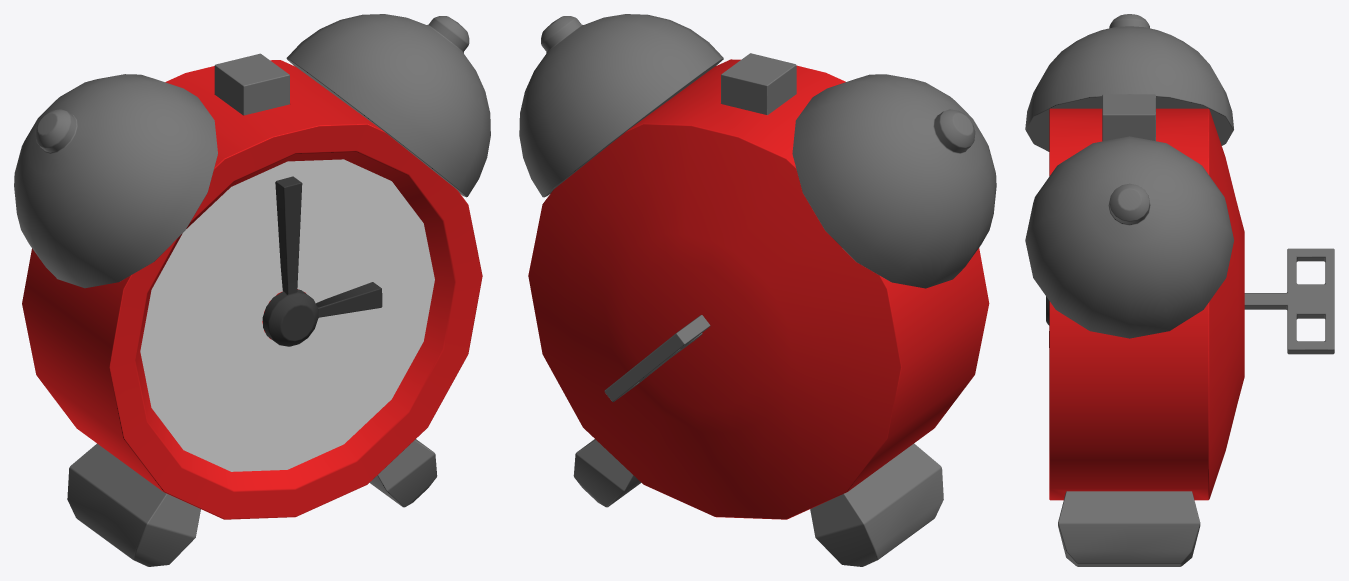
Rendered from clock.fbx.
The picture shows the model from 3 angles, left to right: view 1: azimuth 30°, elevation 25°; view 2: azimuth 150°, elevation 25°; view 3: azimuth 270°, elevation 25°; orthographic projection. The views are drawn at different scales.
Parts seen in each view (by area): view 1: itemAlarmClock; view 2: itemAlarmClock; view 3: itemAlarmClock.
Part boxes in pixels (x1,y1,x2,y2): itemAlarmClock: [14, 14, 490, 566]; itemAlarmClock: [519, 14, 996, 566]; itemAlarmClock: [1025, 14, 1334, 566].
Size of the model in its own units: 0.99 by 0.972 by 0.6525.
